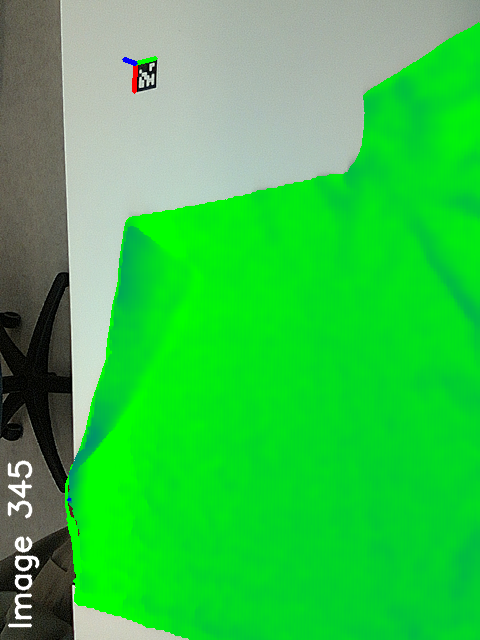V: (152, 253, 211, 309)
